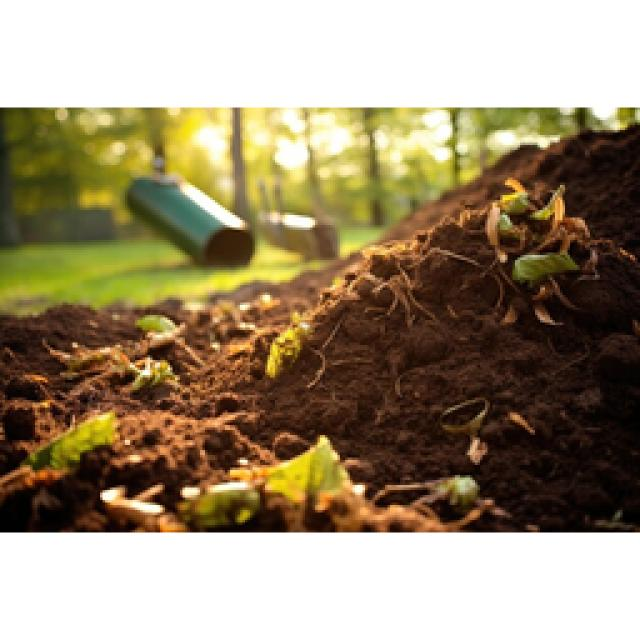food_waste: (265, 178, 638, 422), (90, 435, 505, 530), (0, 410, 110, 502)
